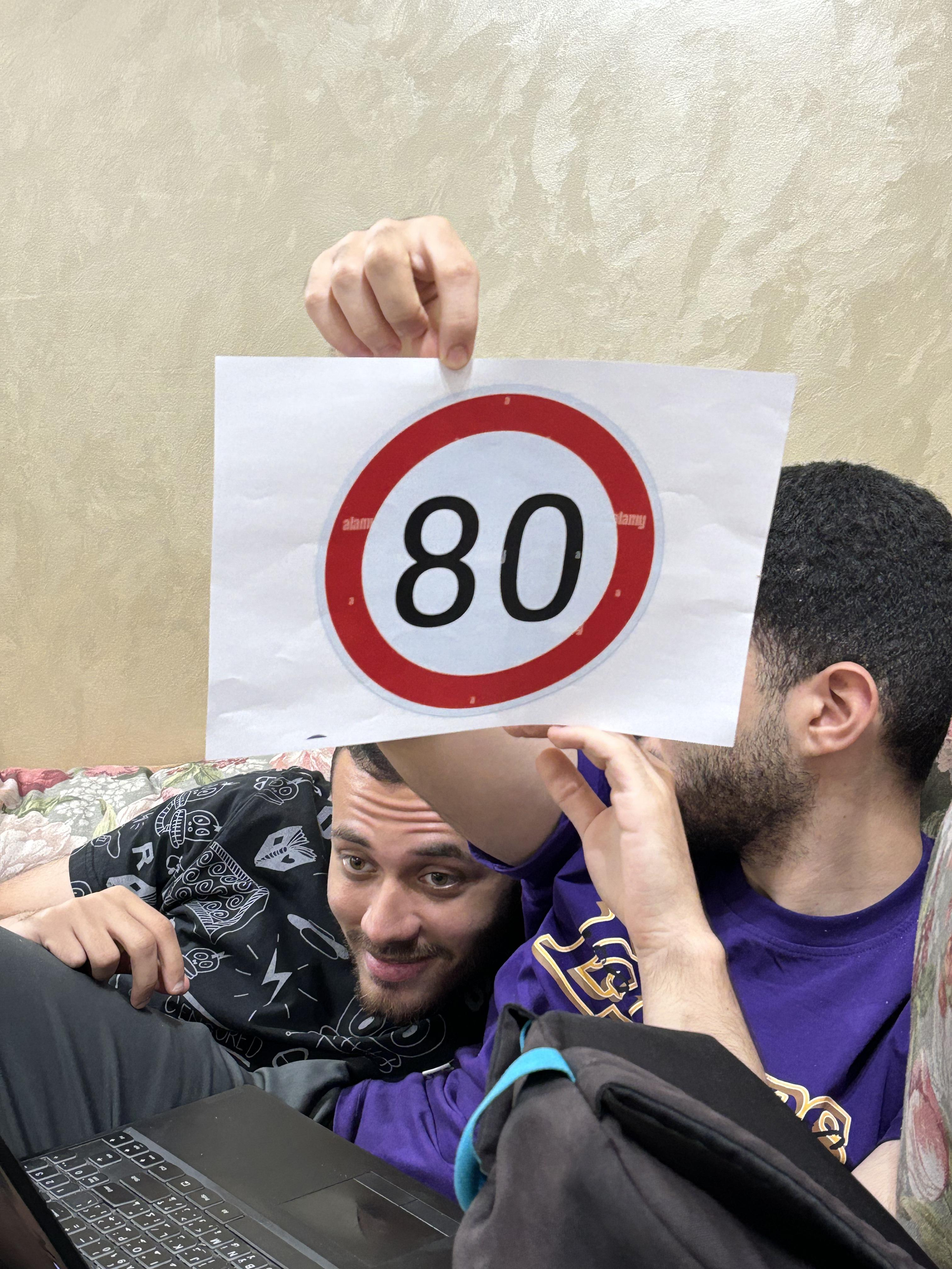80-Speed: (328, 378, 651, 719)
